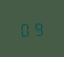nine: (32, 19, 44, 36)
zero: (19, 20, 31, 37)
